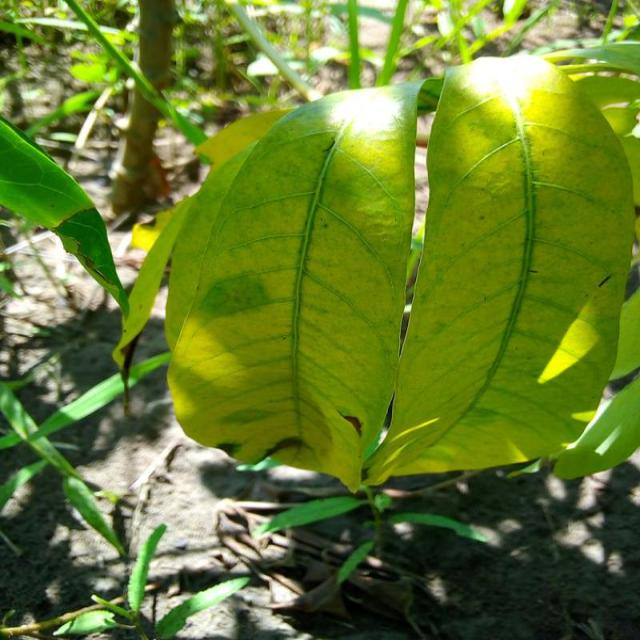cassava leaf: (362, 50, 636, 489), (162, 79, 424, 493)
